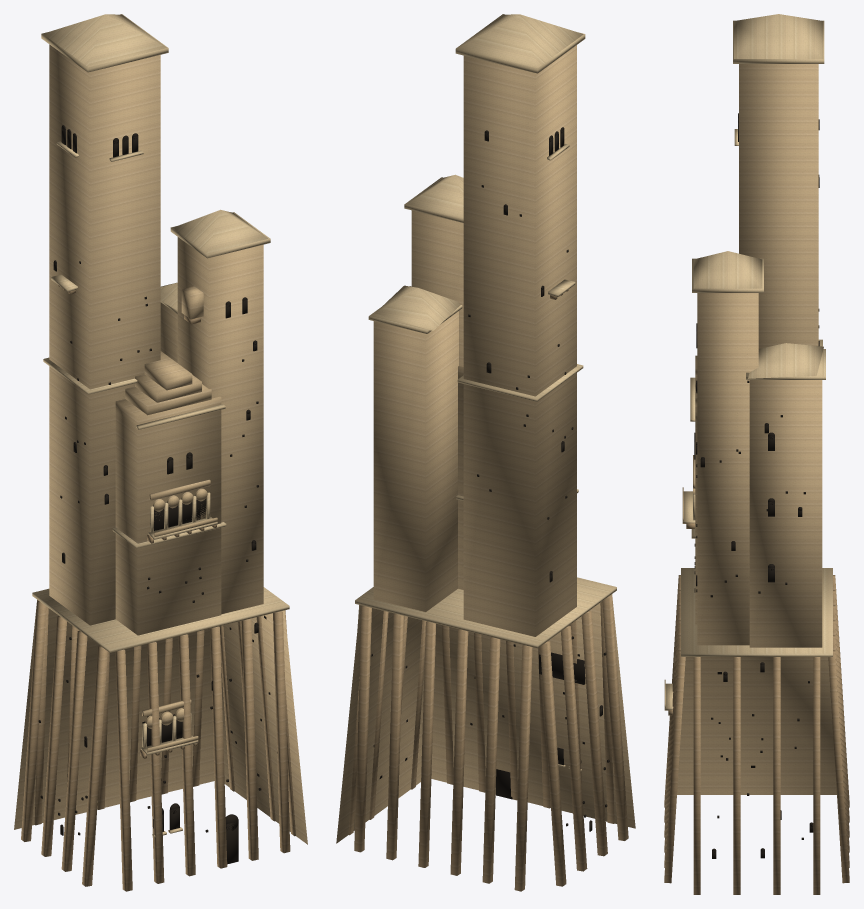
File: brick_spire.glb
3 renders of one model, left to right at view 1: azimuth 30°, elevation 25°; view 2: azimuth 150°, elevation 25°; view 3: azimuth 270°, elevation 25°, orthographic. The views are drawn at different scales.
Parts seen in each view (by area): view 1: Stone, Stone_Dark, Stone_Light, Openings; view 2: Stone, Stone_Dark, Stone_Light, Openings; view 3: Stone, Stone_Light, Stone_Dark, Openings.
Part boxes in pixels (x1,y1,x2,y2): Stone: [14, 44, 307, 844]; Stone_Dark: [21, 285, 295, 891]; Stone_Light: [32, 14, 289, 837]; Openings: [38, 125, 277, 864]; Stone: [336, 45, 635, 843]; Stone_Dark: [348, 290, 628, 891]; Stone_Light: [355, 14, 616, 771]; Openings: [371, 127, 609, 831]; Stone: [664, 64, 836, 794]; Stone_Light: [664, 14, 832, 710]; Stone_Dark: [664, 523, 849, 894]; Openings: [694, 113, 819, 858].
Bounding box in the file's own units: 67.18 × 246 × 51.19.
Materials: 4 (3 with a texture image).
